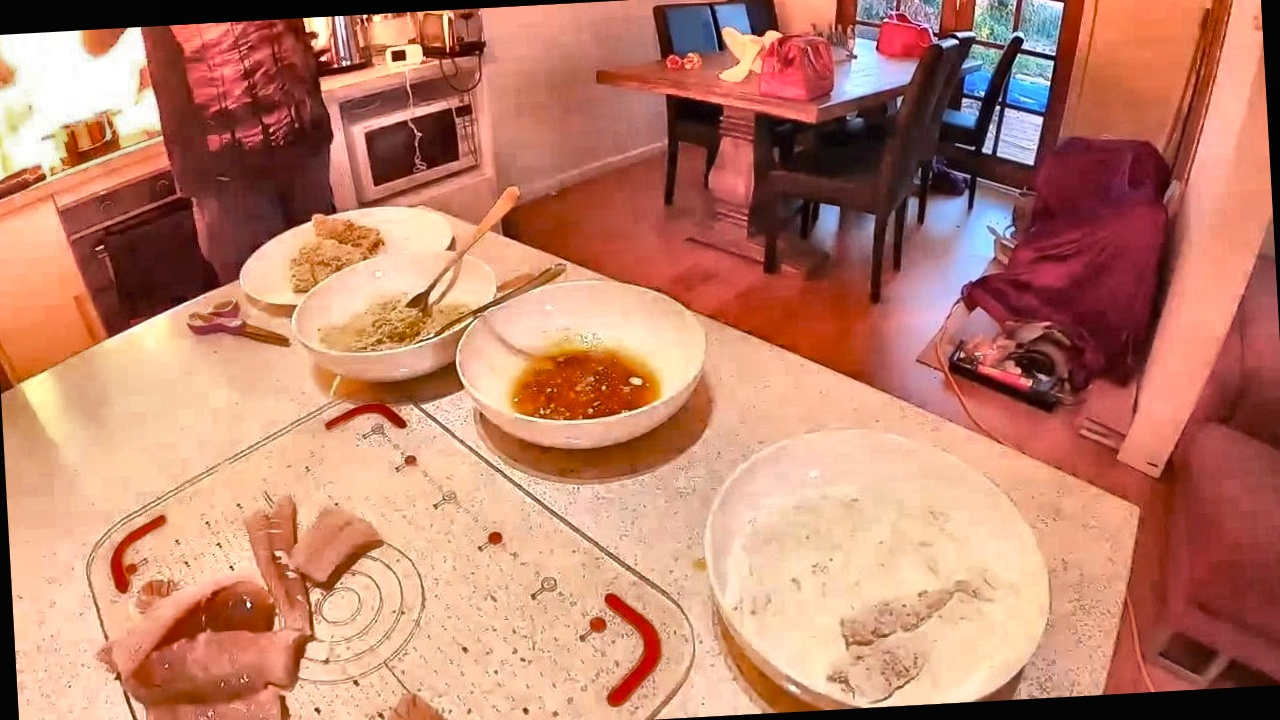fire: (0, 29, 166, 179)
